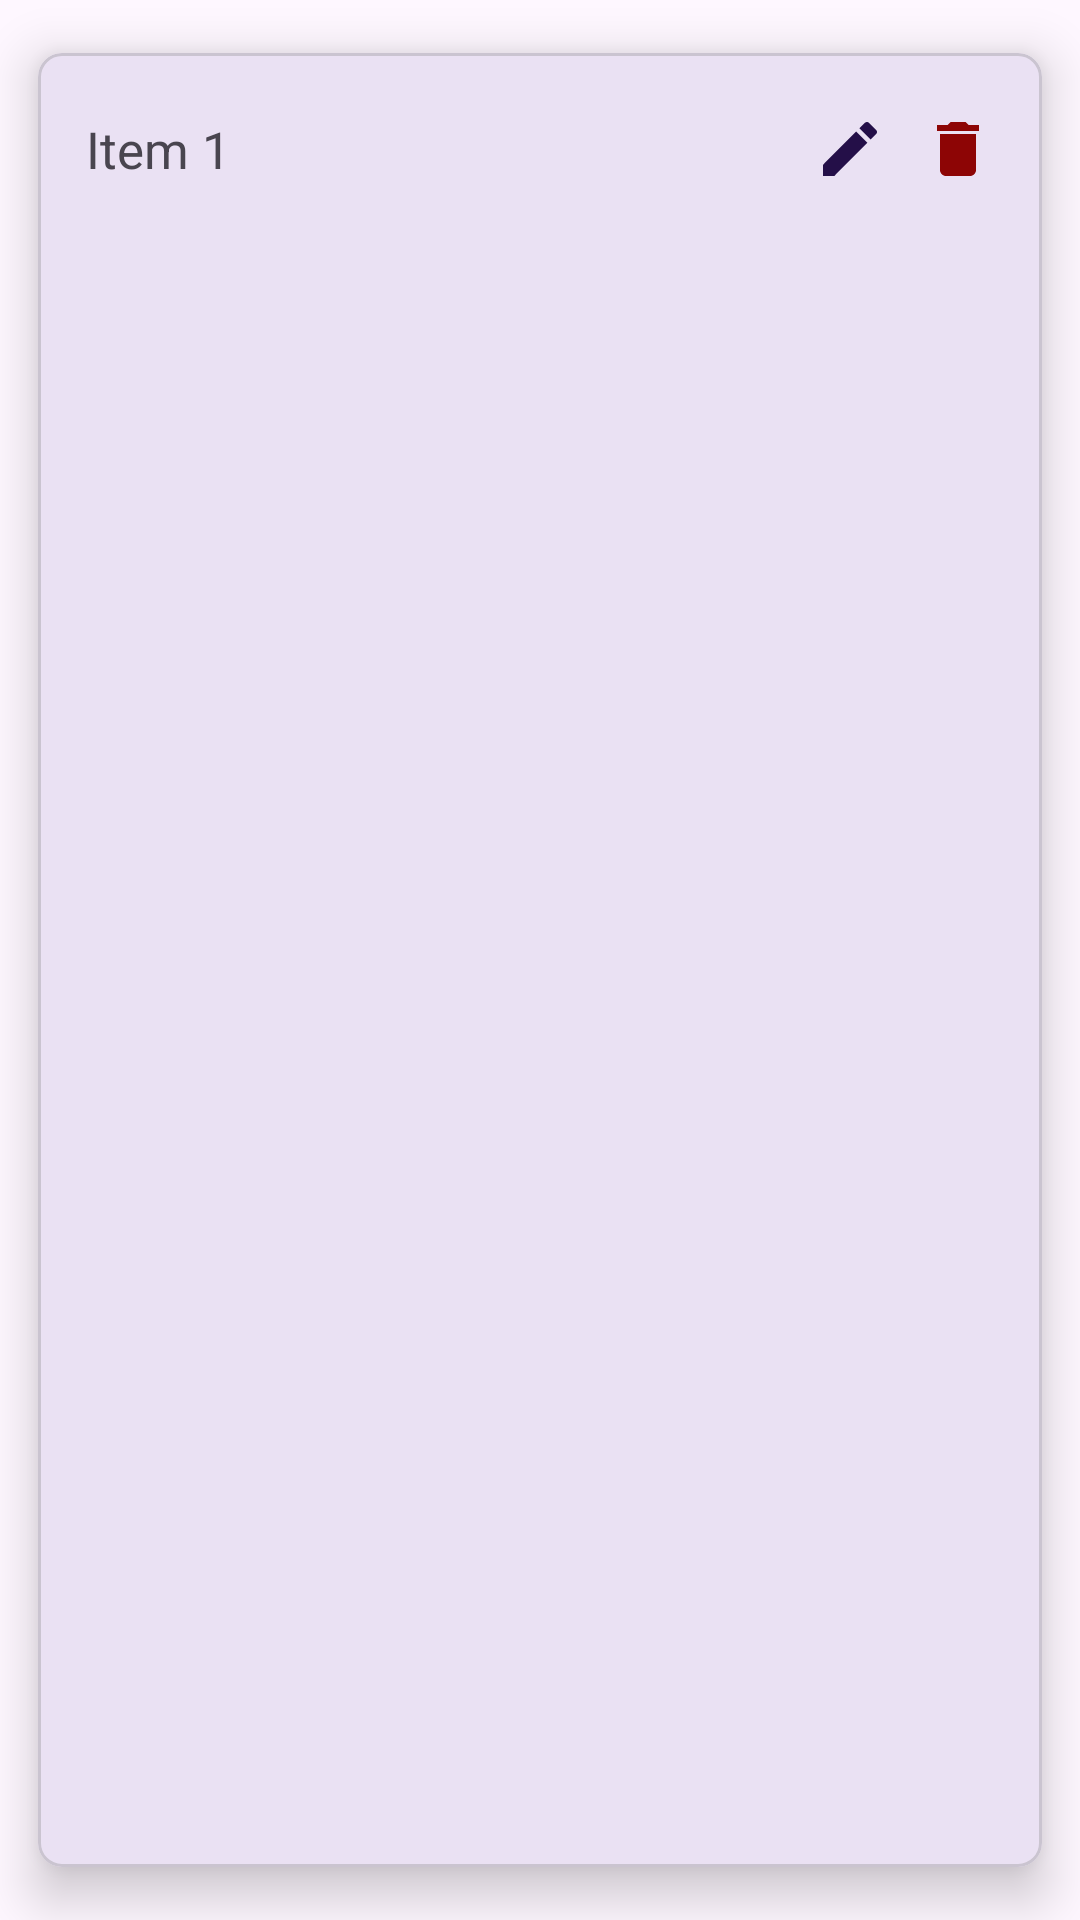

Icon bounding boxes for this 1080px×1920px phone screenshot, format detection(x1, y1, x2, y2):
delete: detection(937, 122, 979, 176)
edit: detection(823, 122, 877, 176)
